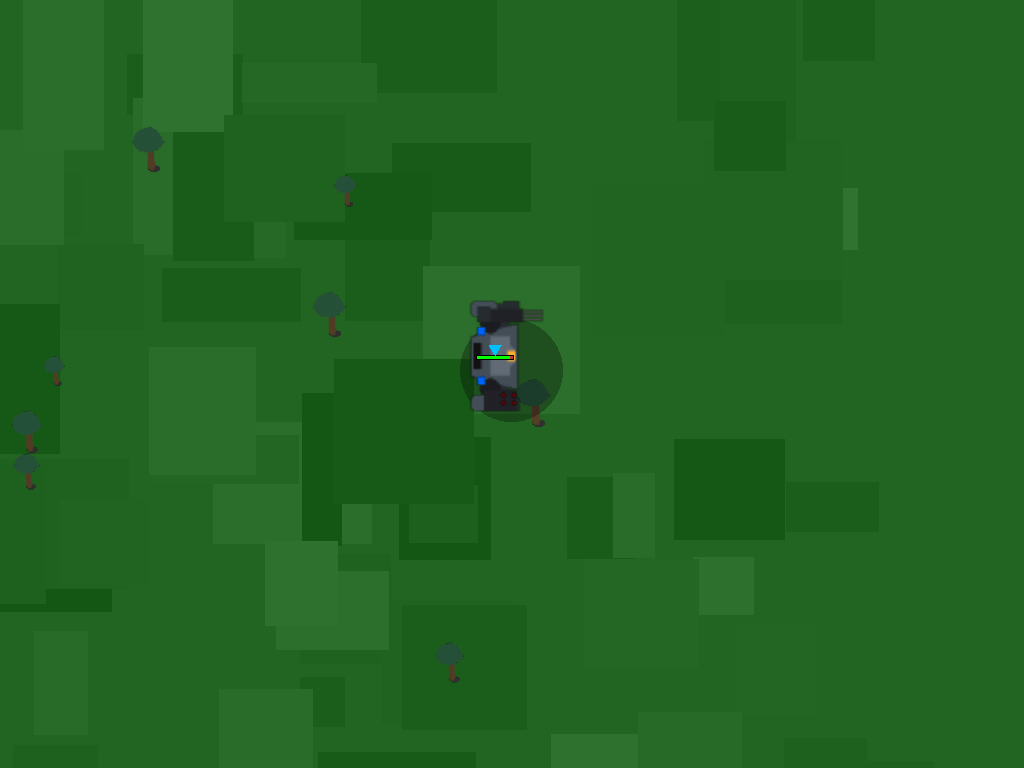HeavyMech: (458, 317, 532, 391)
